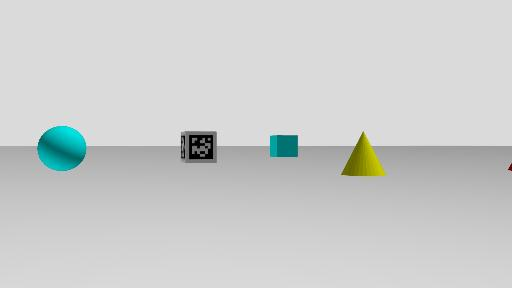yellow_cone: (340, 131, 386, 176)
